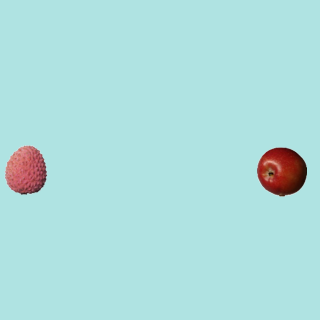Apple Braeburn: (256, 146, 306, 196)
Lychee: (0, 144, 50, 194)
